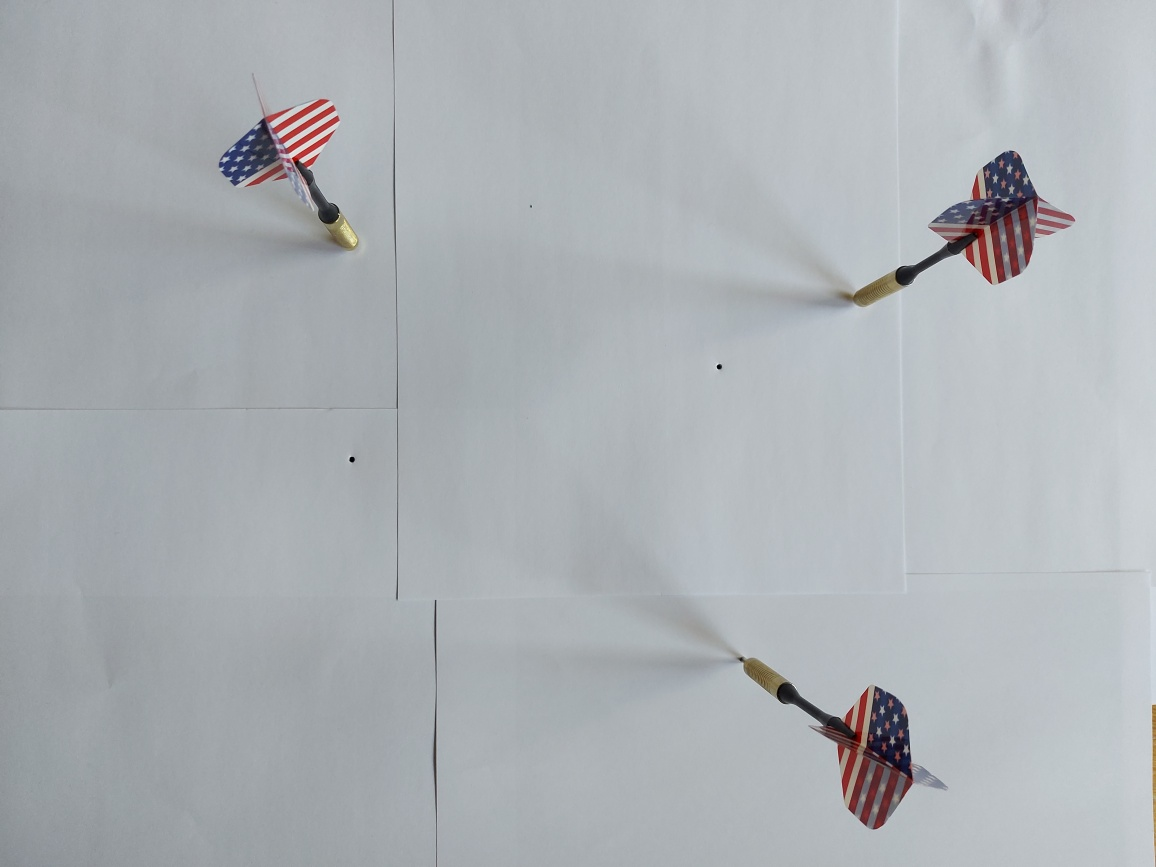Dart: (724, 615, 957, 836), (835, 140, 1079, 322), (205, 59, 369, 271)
